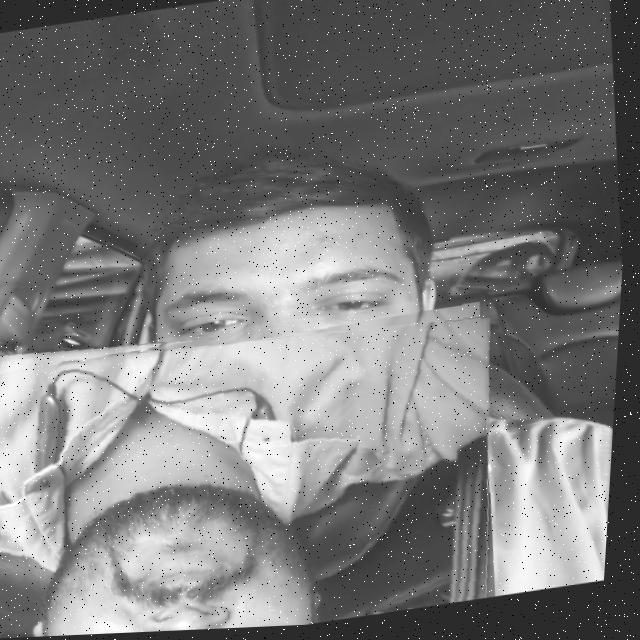no-seatbelt: (0, 293, 519, 640)
